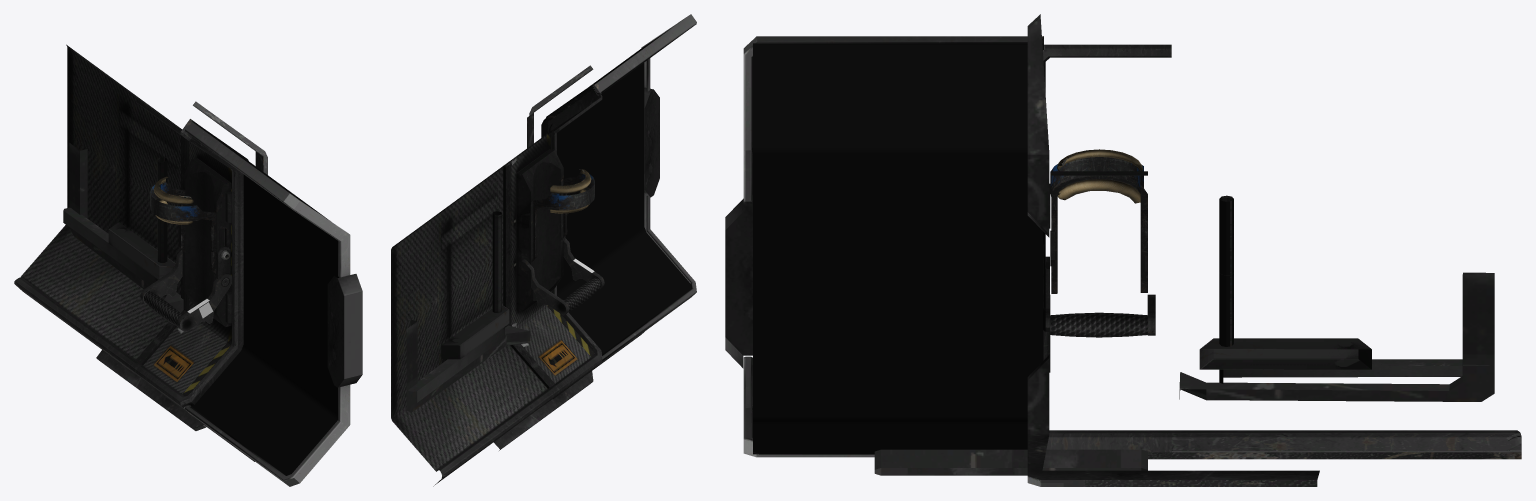
The model's file is t6_wpn_shield_view_red_LOD1.obj.
3 renders of one model, left to right at view 1: azimuth 30°, elevation 25°; view 2: azimuth 150°, elevation 25°; view 3: azimuth 270°, elevation 25°, orthographic. The views are drawn at different scales.
Visible parts, largest first — view 1: mtl_t6_wpn_shield_red, mtl_t6_wpn_shield_glass_sortfx, mtl_t6_wpn_shield_camo1_red, mtl_t6_wpn_shield_camo3_red; view 2: mtl_t6_wpn_shield_red, mtl_t6_wpn_shield_glass_sortfx, mtl_t6_wpn_shield_camo1_red, mtl_t6_wpn_shield_camo3_red; view 3: mtl_t6_wpn_shield_glass_sortfx, mtl_t6_wpn_shield_red, mtl_t6_wpn_shield_camo1_red, mtl_t6_wpn_shield_camo3_red.
Part boxes in pixels (bbox=[...]): mtl_t6_wpn_shield_red: bbox=[20, 44, 362, 486]; mtl_t6_wpn_shield_glass_sortfx: bbox=[191, 138, 339, 475]; mtl_t6_wpn_shield_camo1_red: bbox=[14, 99, 267, 430]; mtl_t6_wpn_shield_camo3_red: bbox=[144, 185, 227, 326]; mtl_t6_wpn_shield_red: bbox=[391, 14, 696, 471]; mtl_t6_wpn_shield_glass_sortfx: bbox=[541, 28, 691, 354]; mtl_t6_wpn_shield_camo1_red: bbox=[433, 65, 602, 486]; mtl_t6_wpn_shield_camo3_red: bbox=[559, 174, 601, 311]; mtl_t6_wpn_shield_glass_sortfx: bbox=[753, 43, 1042, 454]; mtl_t6_wpn_shield_red: bbox=[725, 36, 1494, 475]; mtl_t6_wpn_shield_camo1_red: bbox=[1027, 14, 1521, 486]; mtl_t6_wpn_shield_camo3_red: bbox=[1050, 157, 1147, 337].
Size of the model in its own units: 24.41 by 86.96 by 133.
